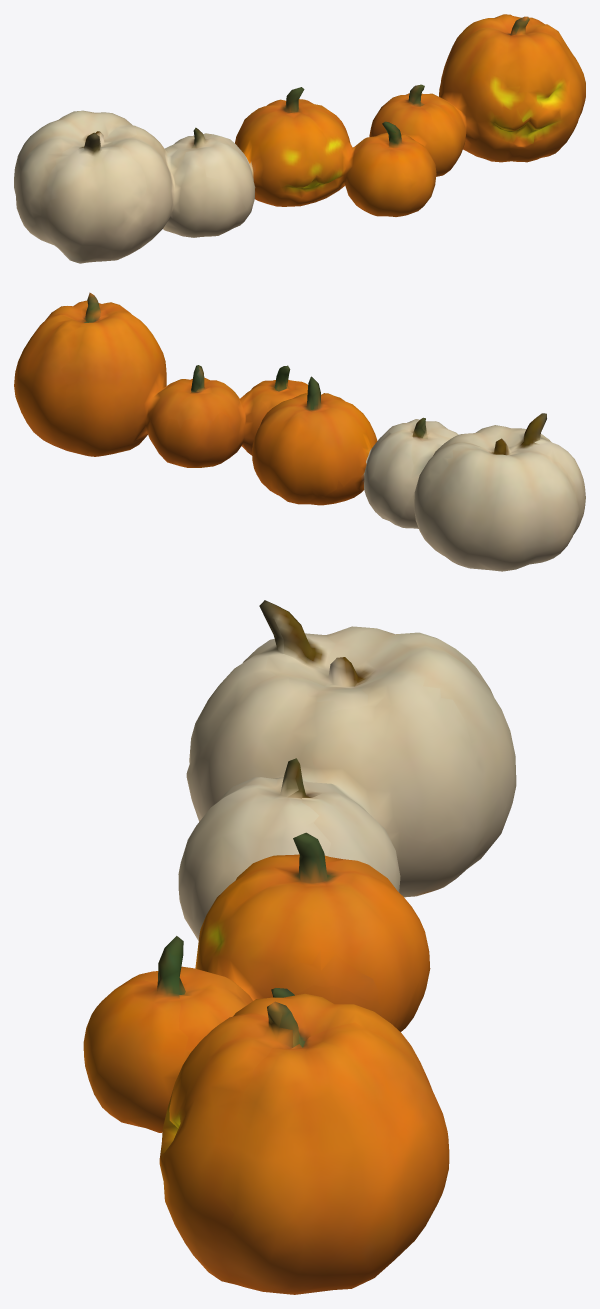
Rendered from halloween-pumpkins.glb.
3 renders of one model, top to bottom at view 1: azimuth 30°, elevation 25°; view 2: azimuth 150°, elevation 25°; view 3: azimuth 270°, elevation 25°, orthographic. The views are drawn at different scales.
Visible parts, largest first — view 1: geometry_0; view 2: geometry_0; view 3: geometry_0.
Boxes of the visible parts, <box> form: geometry_0: <box>14,14,585,263</box>; geometry_0: <box>14,292,585,571</box>; geometry_0: <box>83,600,516,1294</box>.
Bounding box in the file's own units: 2.1 × 0.5148 × 0.7284.
1 material, 1 textured.
